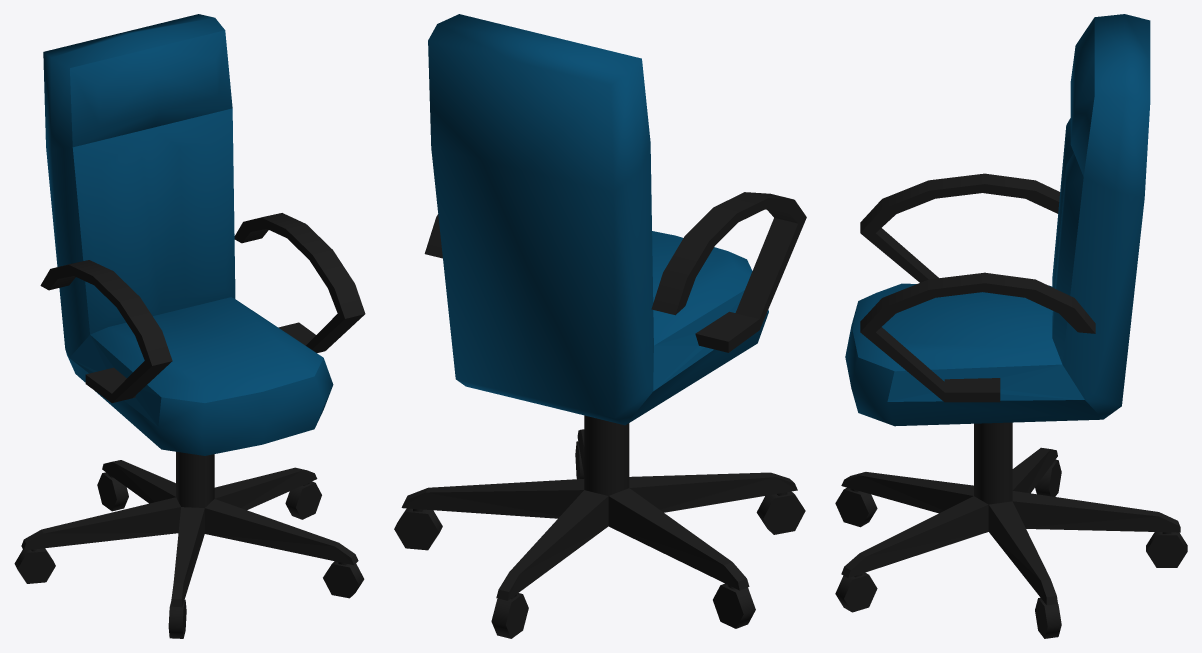
File: SwivelChair.FBX
3 views of the same model, side by side, from view 1: azimuth 30°, elevation 25°; view 2: azimuth 150°, elevation 25°; view 3: azimuth 270°, elevation 25° (orthographic). The views are drawn at different scales.
Visible parts, largest first — view 1: Box001; view 2: Box001; view 3: Box001.
Part boxes in pixels (x1,y1,x2,y2): Box001: [14, 14, 365, 638]; Box001: [394, 14, 806, 638]; Box001: [835, 14, 1187, 638].
Bounding box in the file's own units: 19.99 × 19.01 × 30.57.
